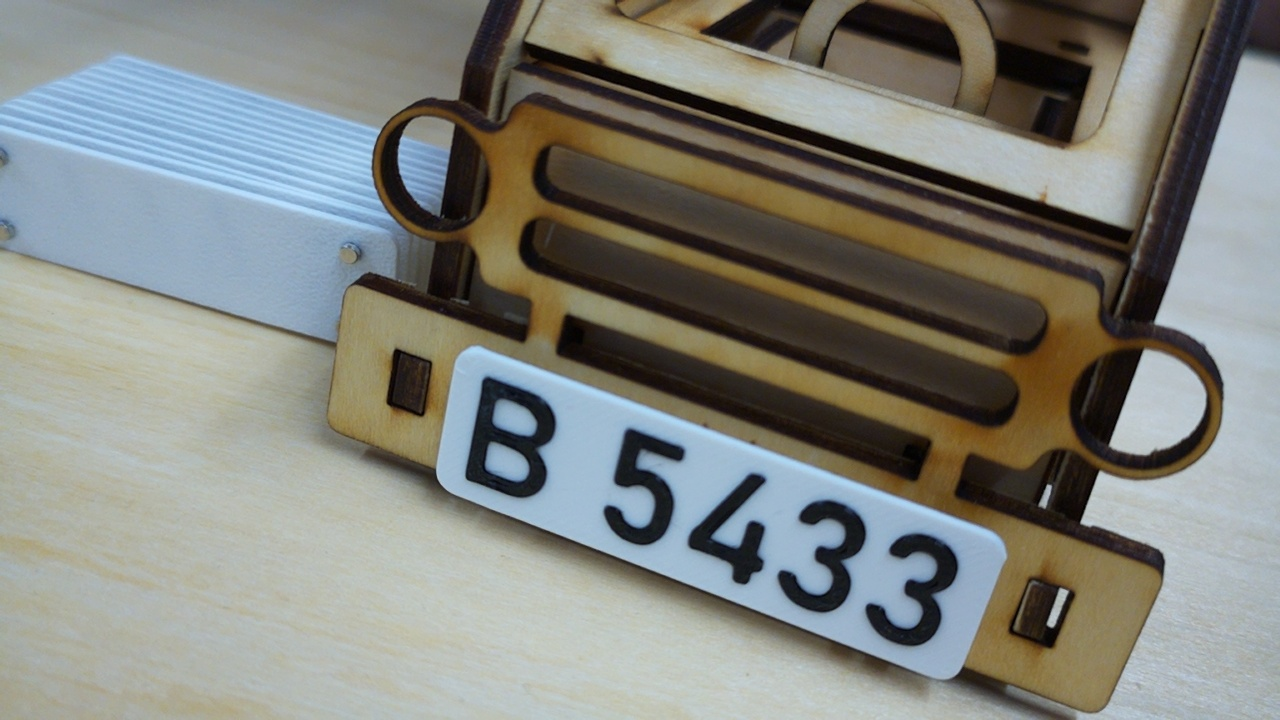license_plate: (434, 342, 1011, 684)
